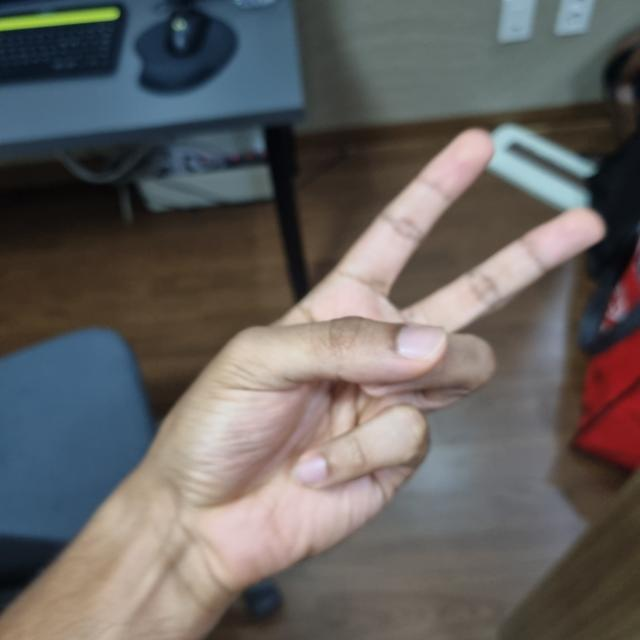Scissors: (197, 137, 589, 576)
